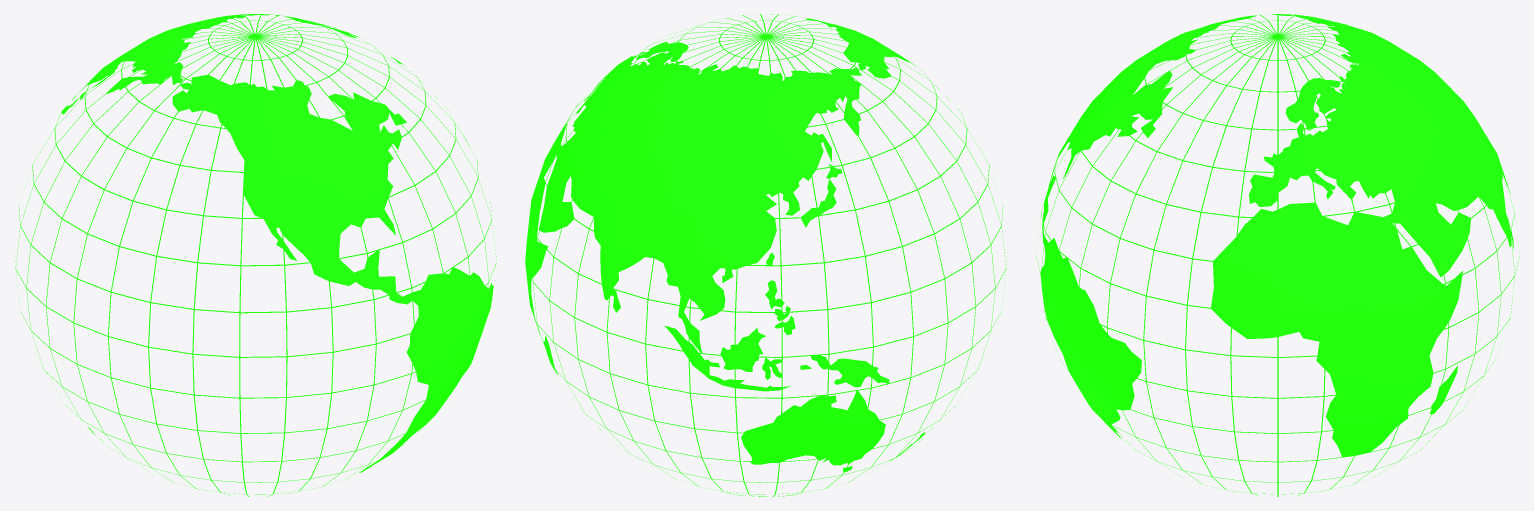
Rendered from Earth Hologram.gltf.
3 views of the same model, side by side, from view 1: azimuth 30°, elevation 25°; view 2: azimuth 150°, elevation 25°; view 3: azimuth 270°, elevation 25° (orthographic).
Visible parts, largest first — view 1: Sphere.001; view 2: Sphere.001; view 3: Sphere.001.
Part boxes in pixels (bbox=[...]): Sphere.001: bbox=[14, 14, 496, 496]; Sphere.001: bbox=[525, 14, 1007, 496]; Sphere.001: bbox=[1036, 14, 1519, 496].
Size of the model in its own units: 2 by 2 by 2.
